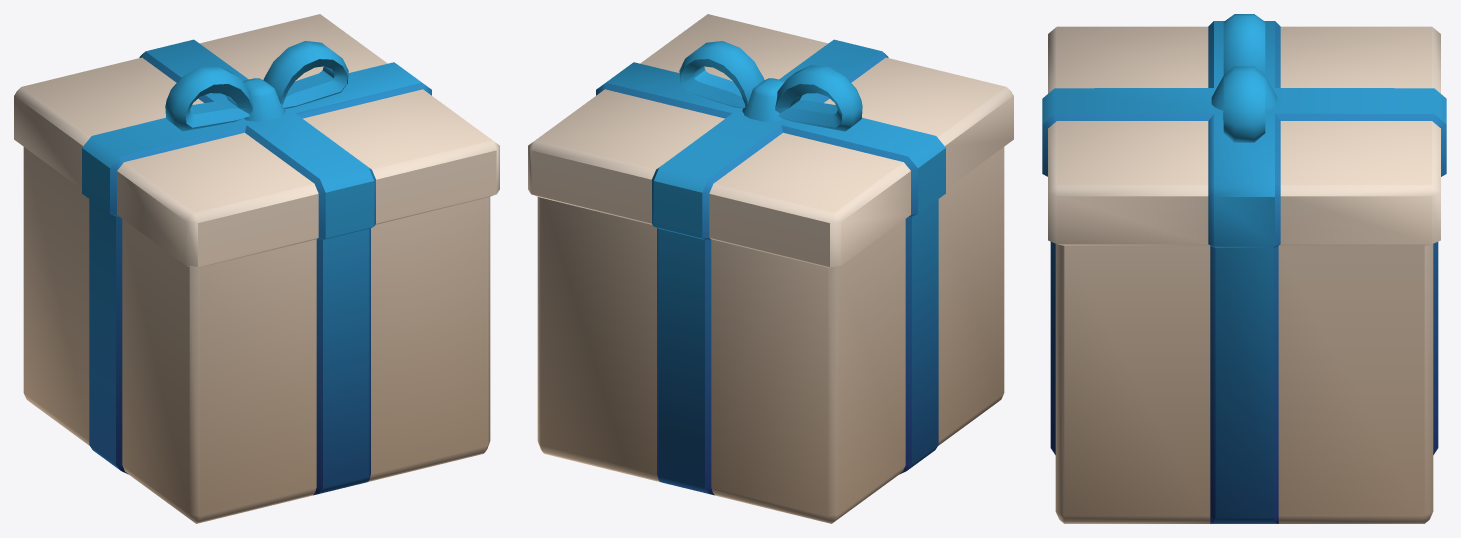
The model's file is present_D_white.glb.
3 renders of one model, left to right at view 1: azimuth 30°, elevation 25°; view 2: azimuth 150°, elevation 25°; view 3: azimuth 270°, elevation 25°, orthographic. The views are drawn at different scales.
Visible parts, largest first — view 1: present_D_white; view 2: present_D_white; view 3: present_D_white.
Boxes of the visible parts, bbox=[...] form: present_D_white: bbox=[14, 14, 499, 523]; present_D_white: bbox=[528, 14, 1013, 523]; present_D_white: bbox=[1042, 14, 1446, 523].
Bounding box in the file's own units: 0.9638 × 1.06 × 0.9638.
1 material, 1 textured.
